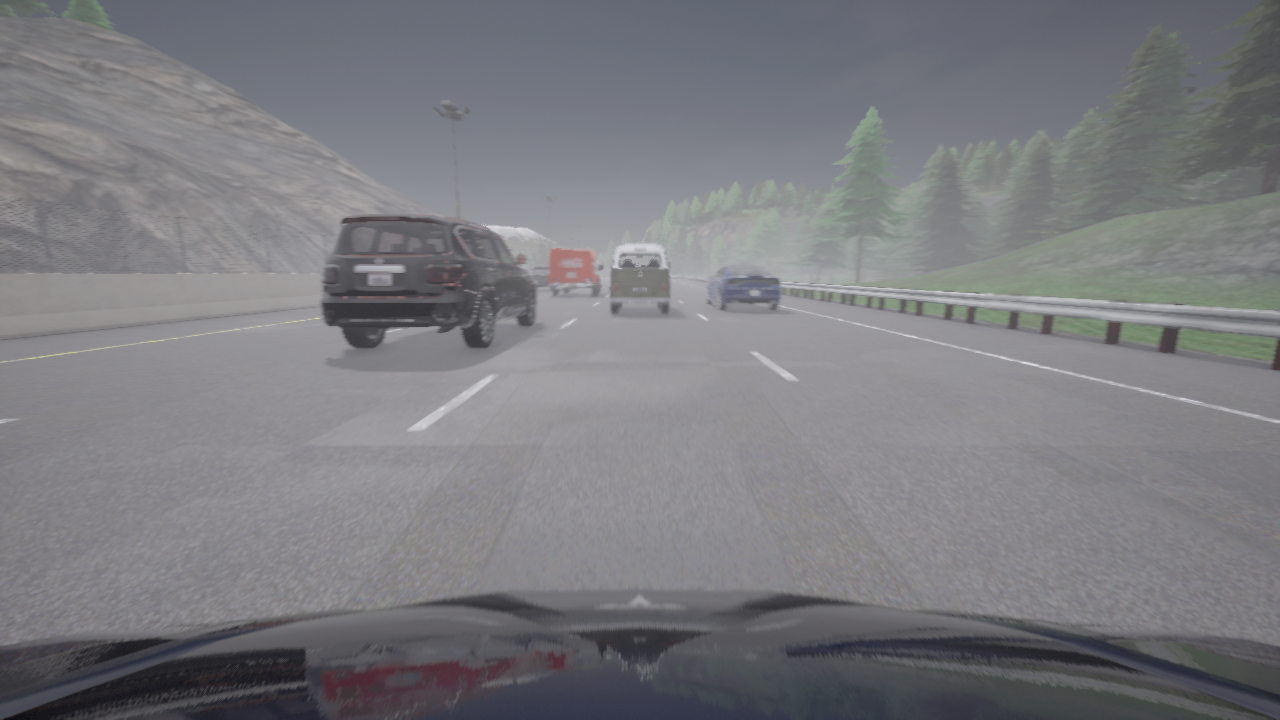cyclist: (0, 588, 1279, 719), (321, 215, 536, 348), (609, 244, 670, 313), (706, 263, 780, 310), (548, 249, 602, 295), (529, 267, 550, 290)
